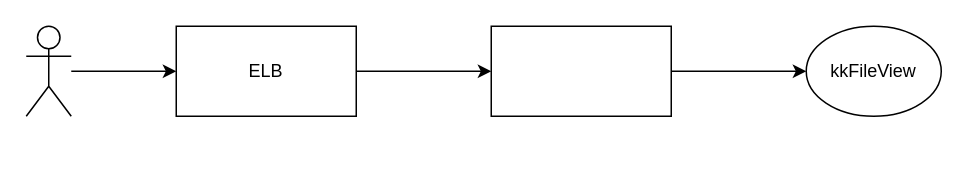
Some shapes in this 968 by 174 pixel diagram are drawn without their labels. Each missing label, with the centre of its shape:
"Actor" goes at point (48, 70).
"Nginx" goes at point (580, 70).
